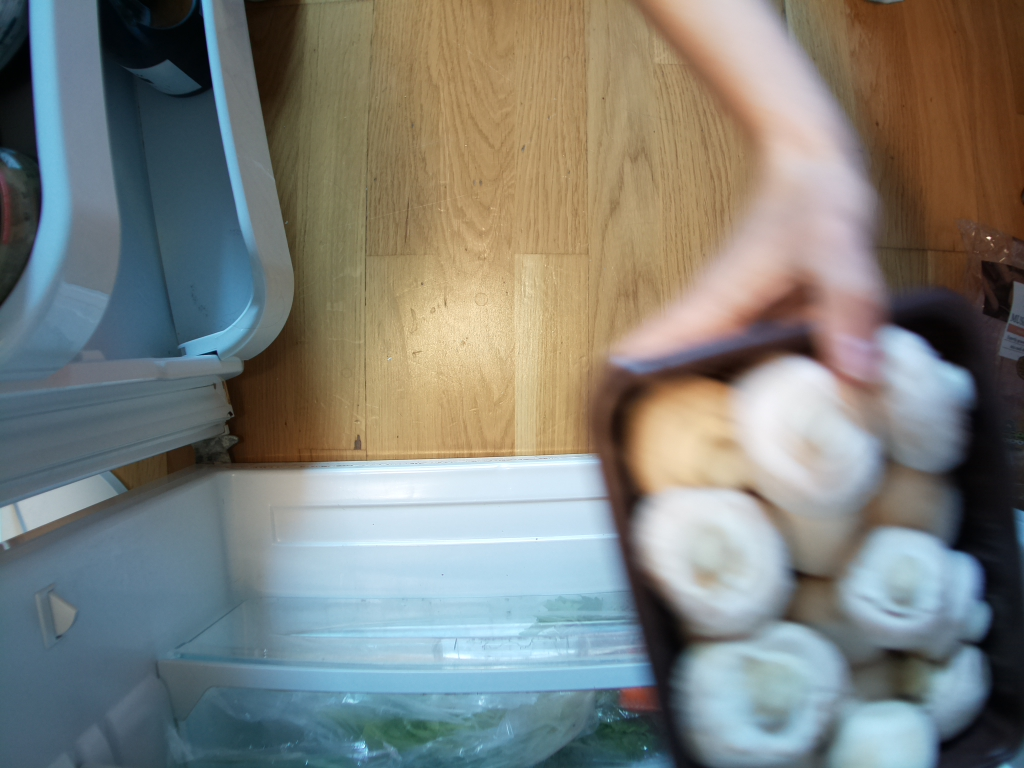mushrooms: (580, 276, 1024, 768)
